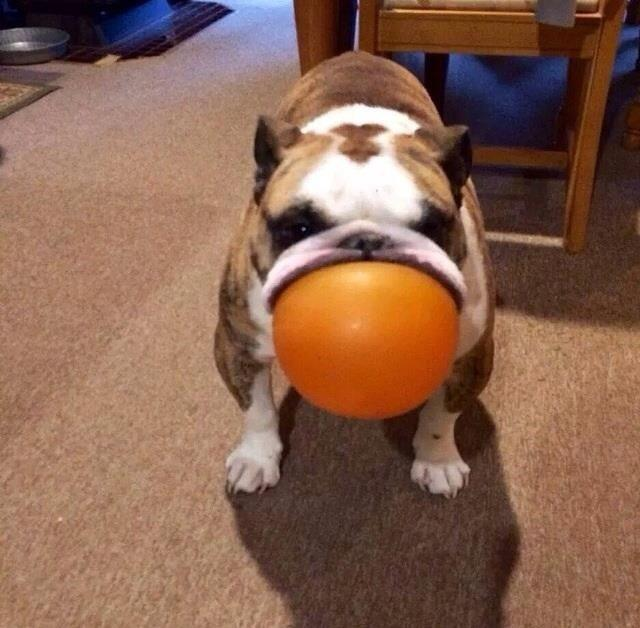adult_dog: (214, 49, 495, 501)
